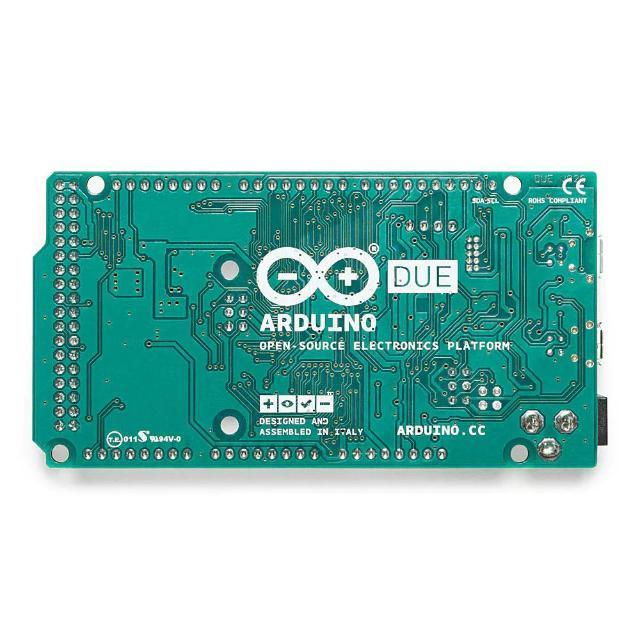Arduino-Due: (33, 172, 608, 469)
